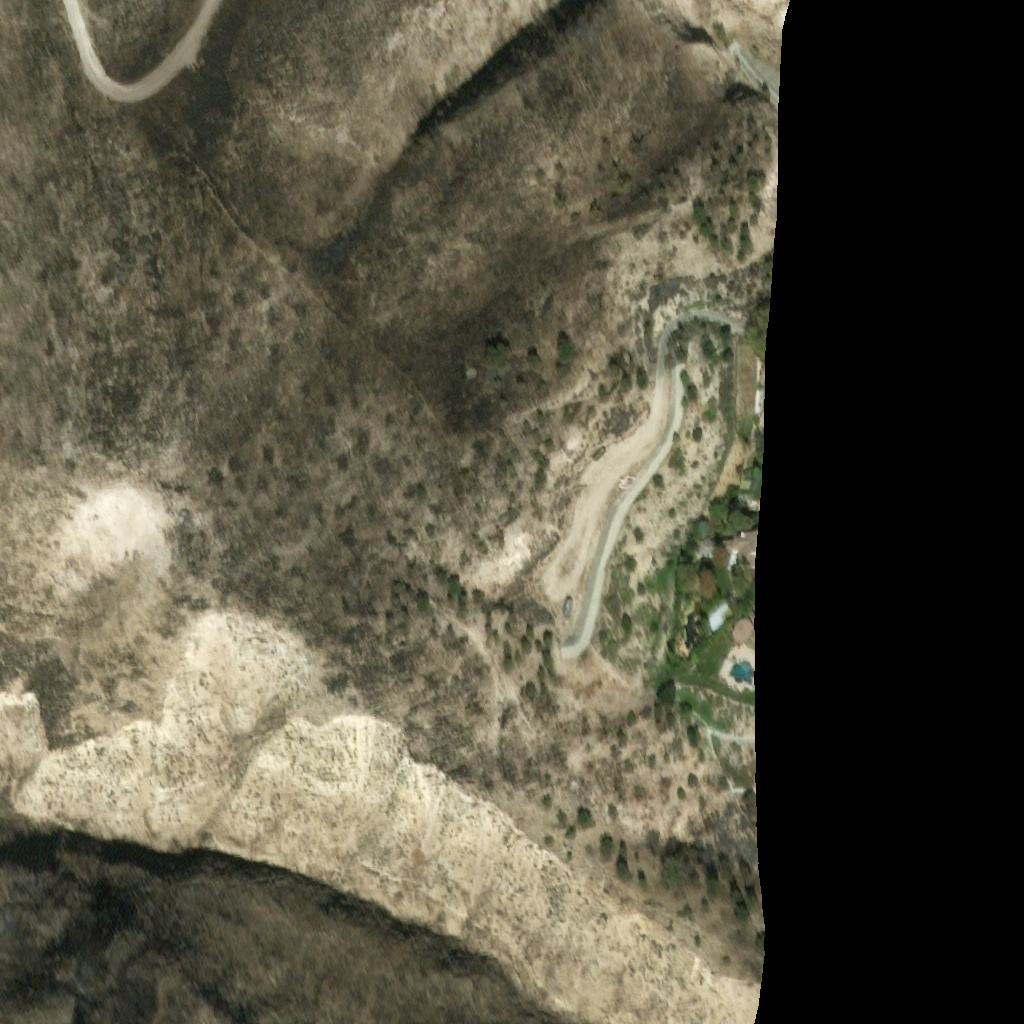0 no-damage: (715, 628, 752, 663), (707, 566, 722, 588)
